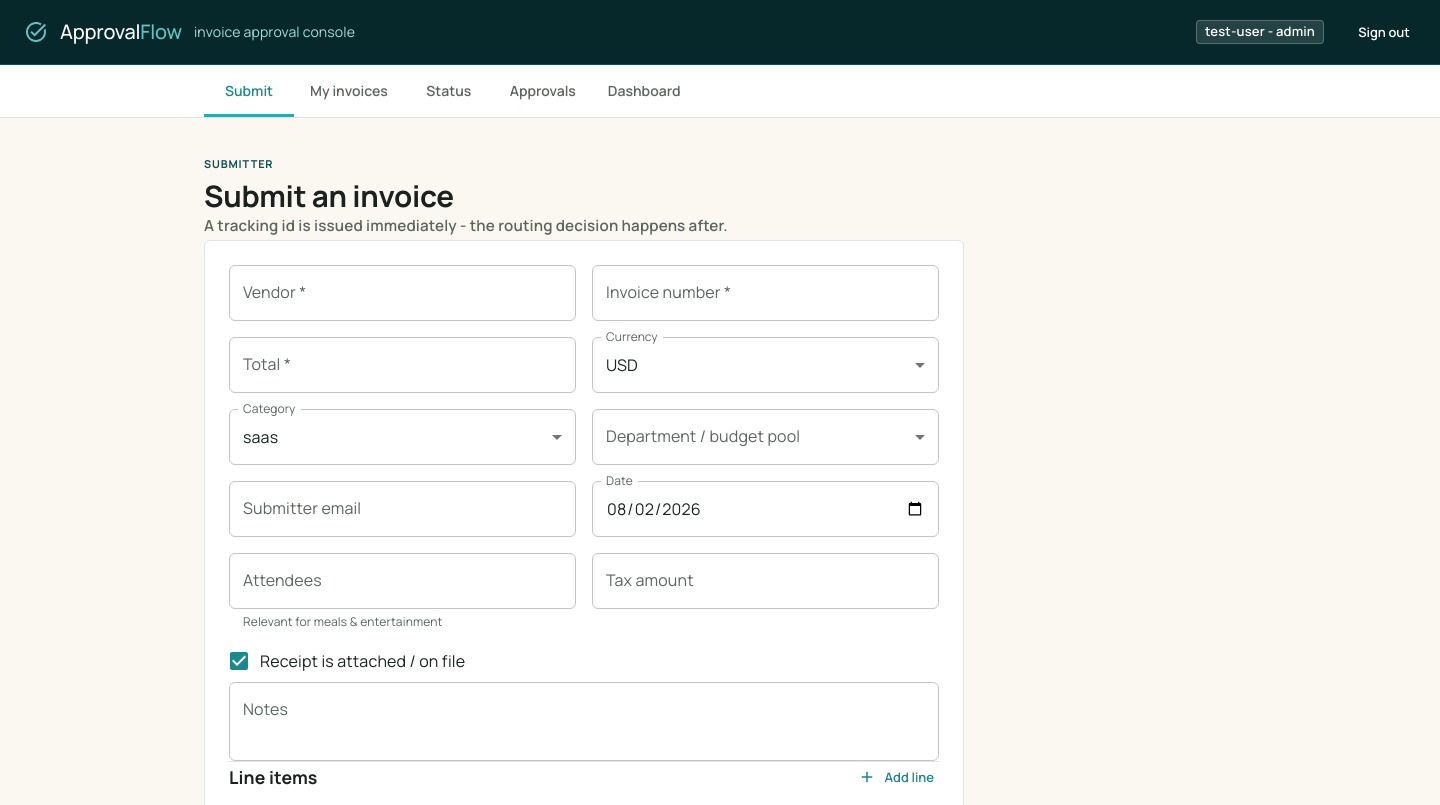
Test: App - authenticated (role-gated tabs) › signs out back to the login screen
Click the button "Sign out" at (1384, 32), box [1352,17,1416,47]
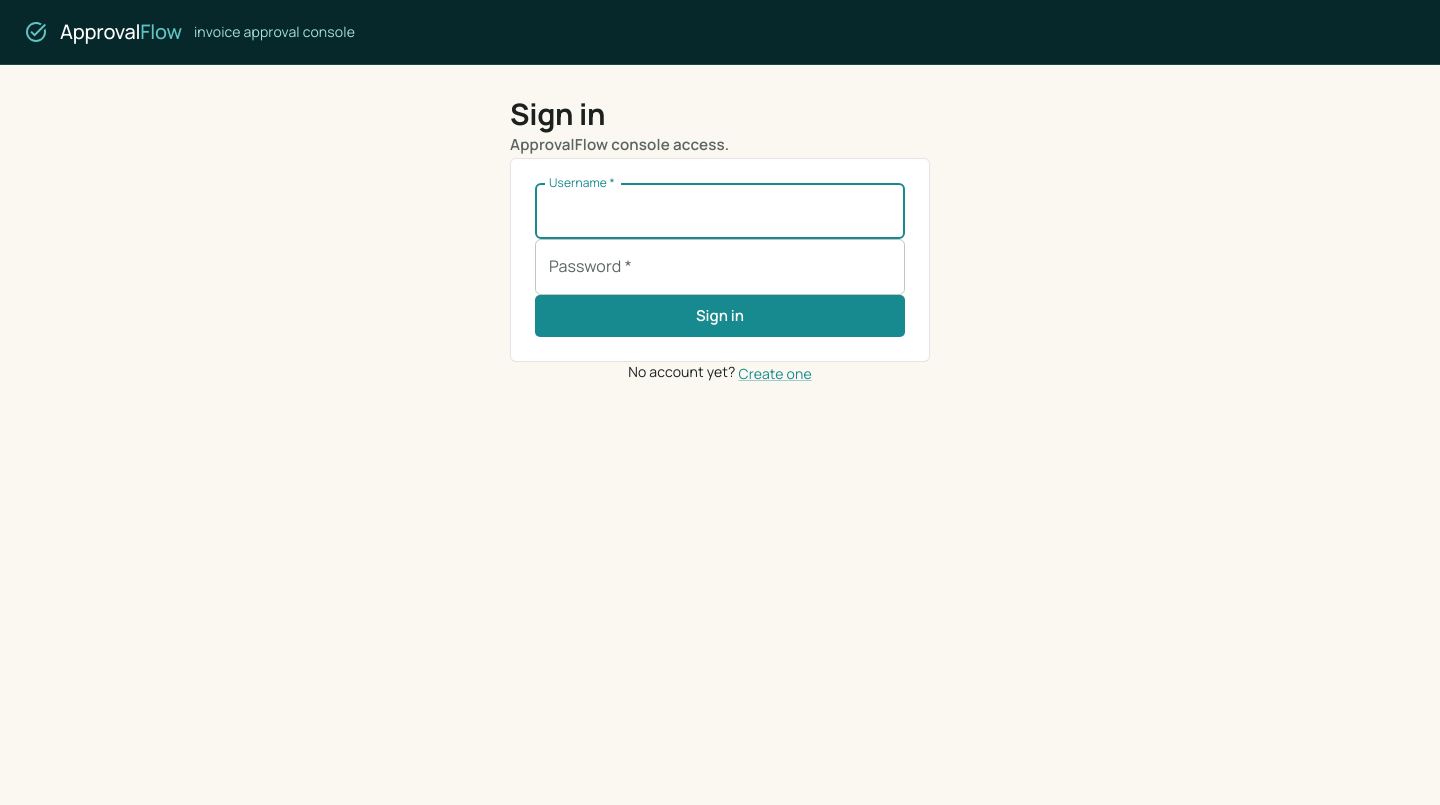
Check: the heading "Sign in" is shown, box [510,93,605,134]
